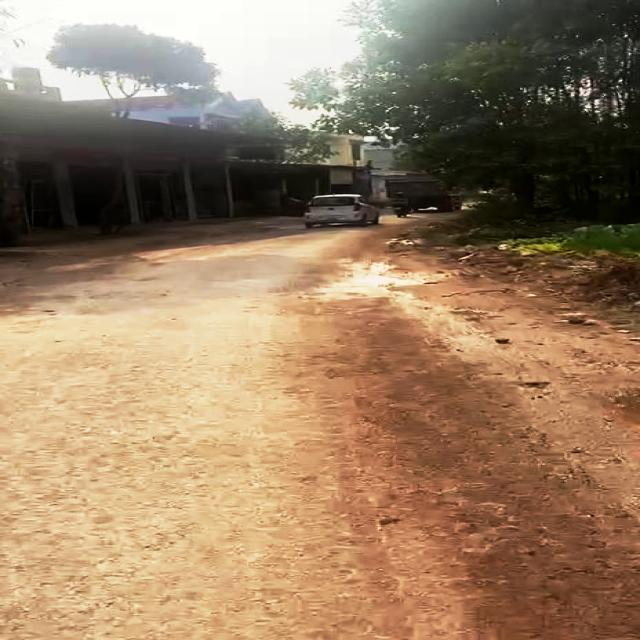pothole: (341, 269, 422, 290)
